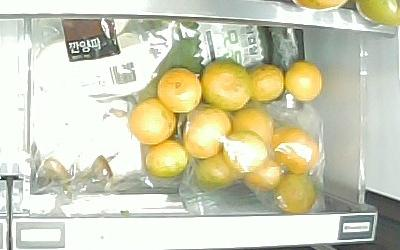tangerine: (202, 58, 251, 110), (129, 97, 177, 145), (157, 66, 200, 115), (246, 63, 285, 104), (284, 61, 322, 103)
tangerine_vinyl: (183, 105, 231, 160), (271, 128, 322, 174), (219, 131, 268, 176), (274, 173, 319, 215), (193, 153, 244, 189), (231, 108, 274, 147), (144, 141, 187, 178), (242, 158, 283, 193)
